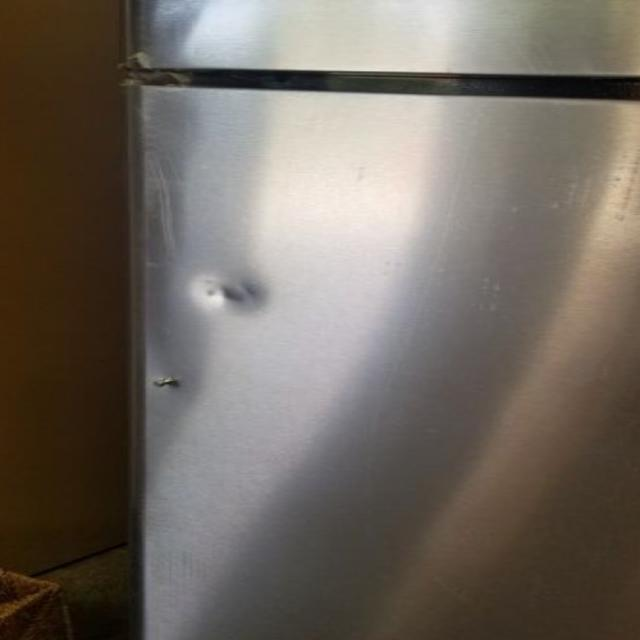dents: (189, 237, 339, 319), (141, 346, 248, 444)
